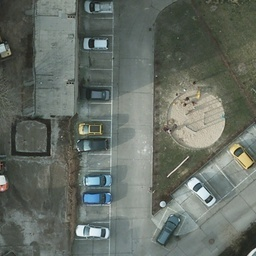car: (187, 176, 216, 208), (156, 216, 182, 245), (227, 143, 253, 171), (75, 223, 110, 241), (75, 139, 112, 154), (83, 1, 114, 16), (82, 191, 112, 205), (82, 174, 112, 188), (83, 35, 110, 50), (85, 89, 110, 103), (78, 124, 104, 136)
